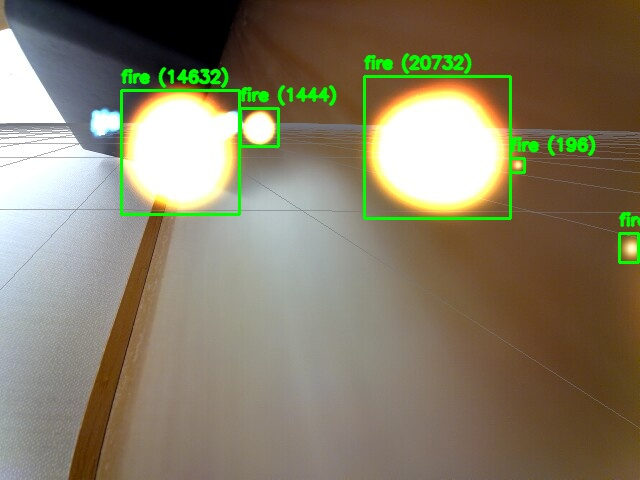fire: (364, 76, 510, 218), (121, 90, 239, 214), (240, 108, 278, 146), (619, 233, 638, 262), (510, 158, 524, 172)
